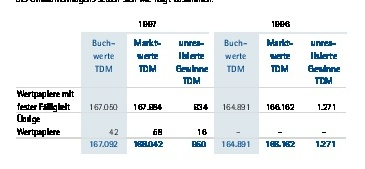table: (0, 0, 365, 169)
